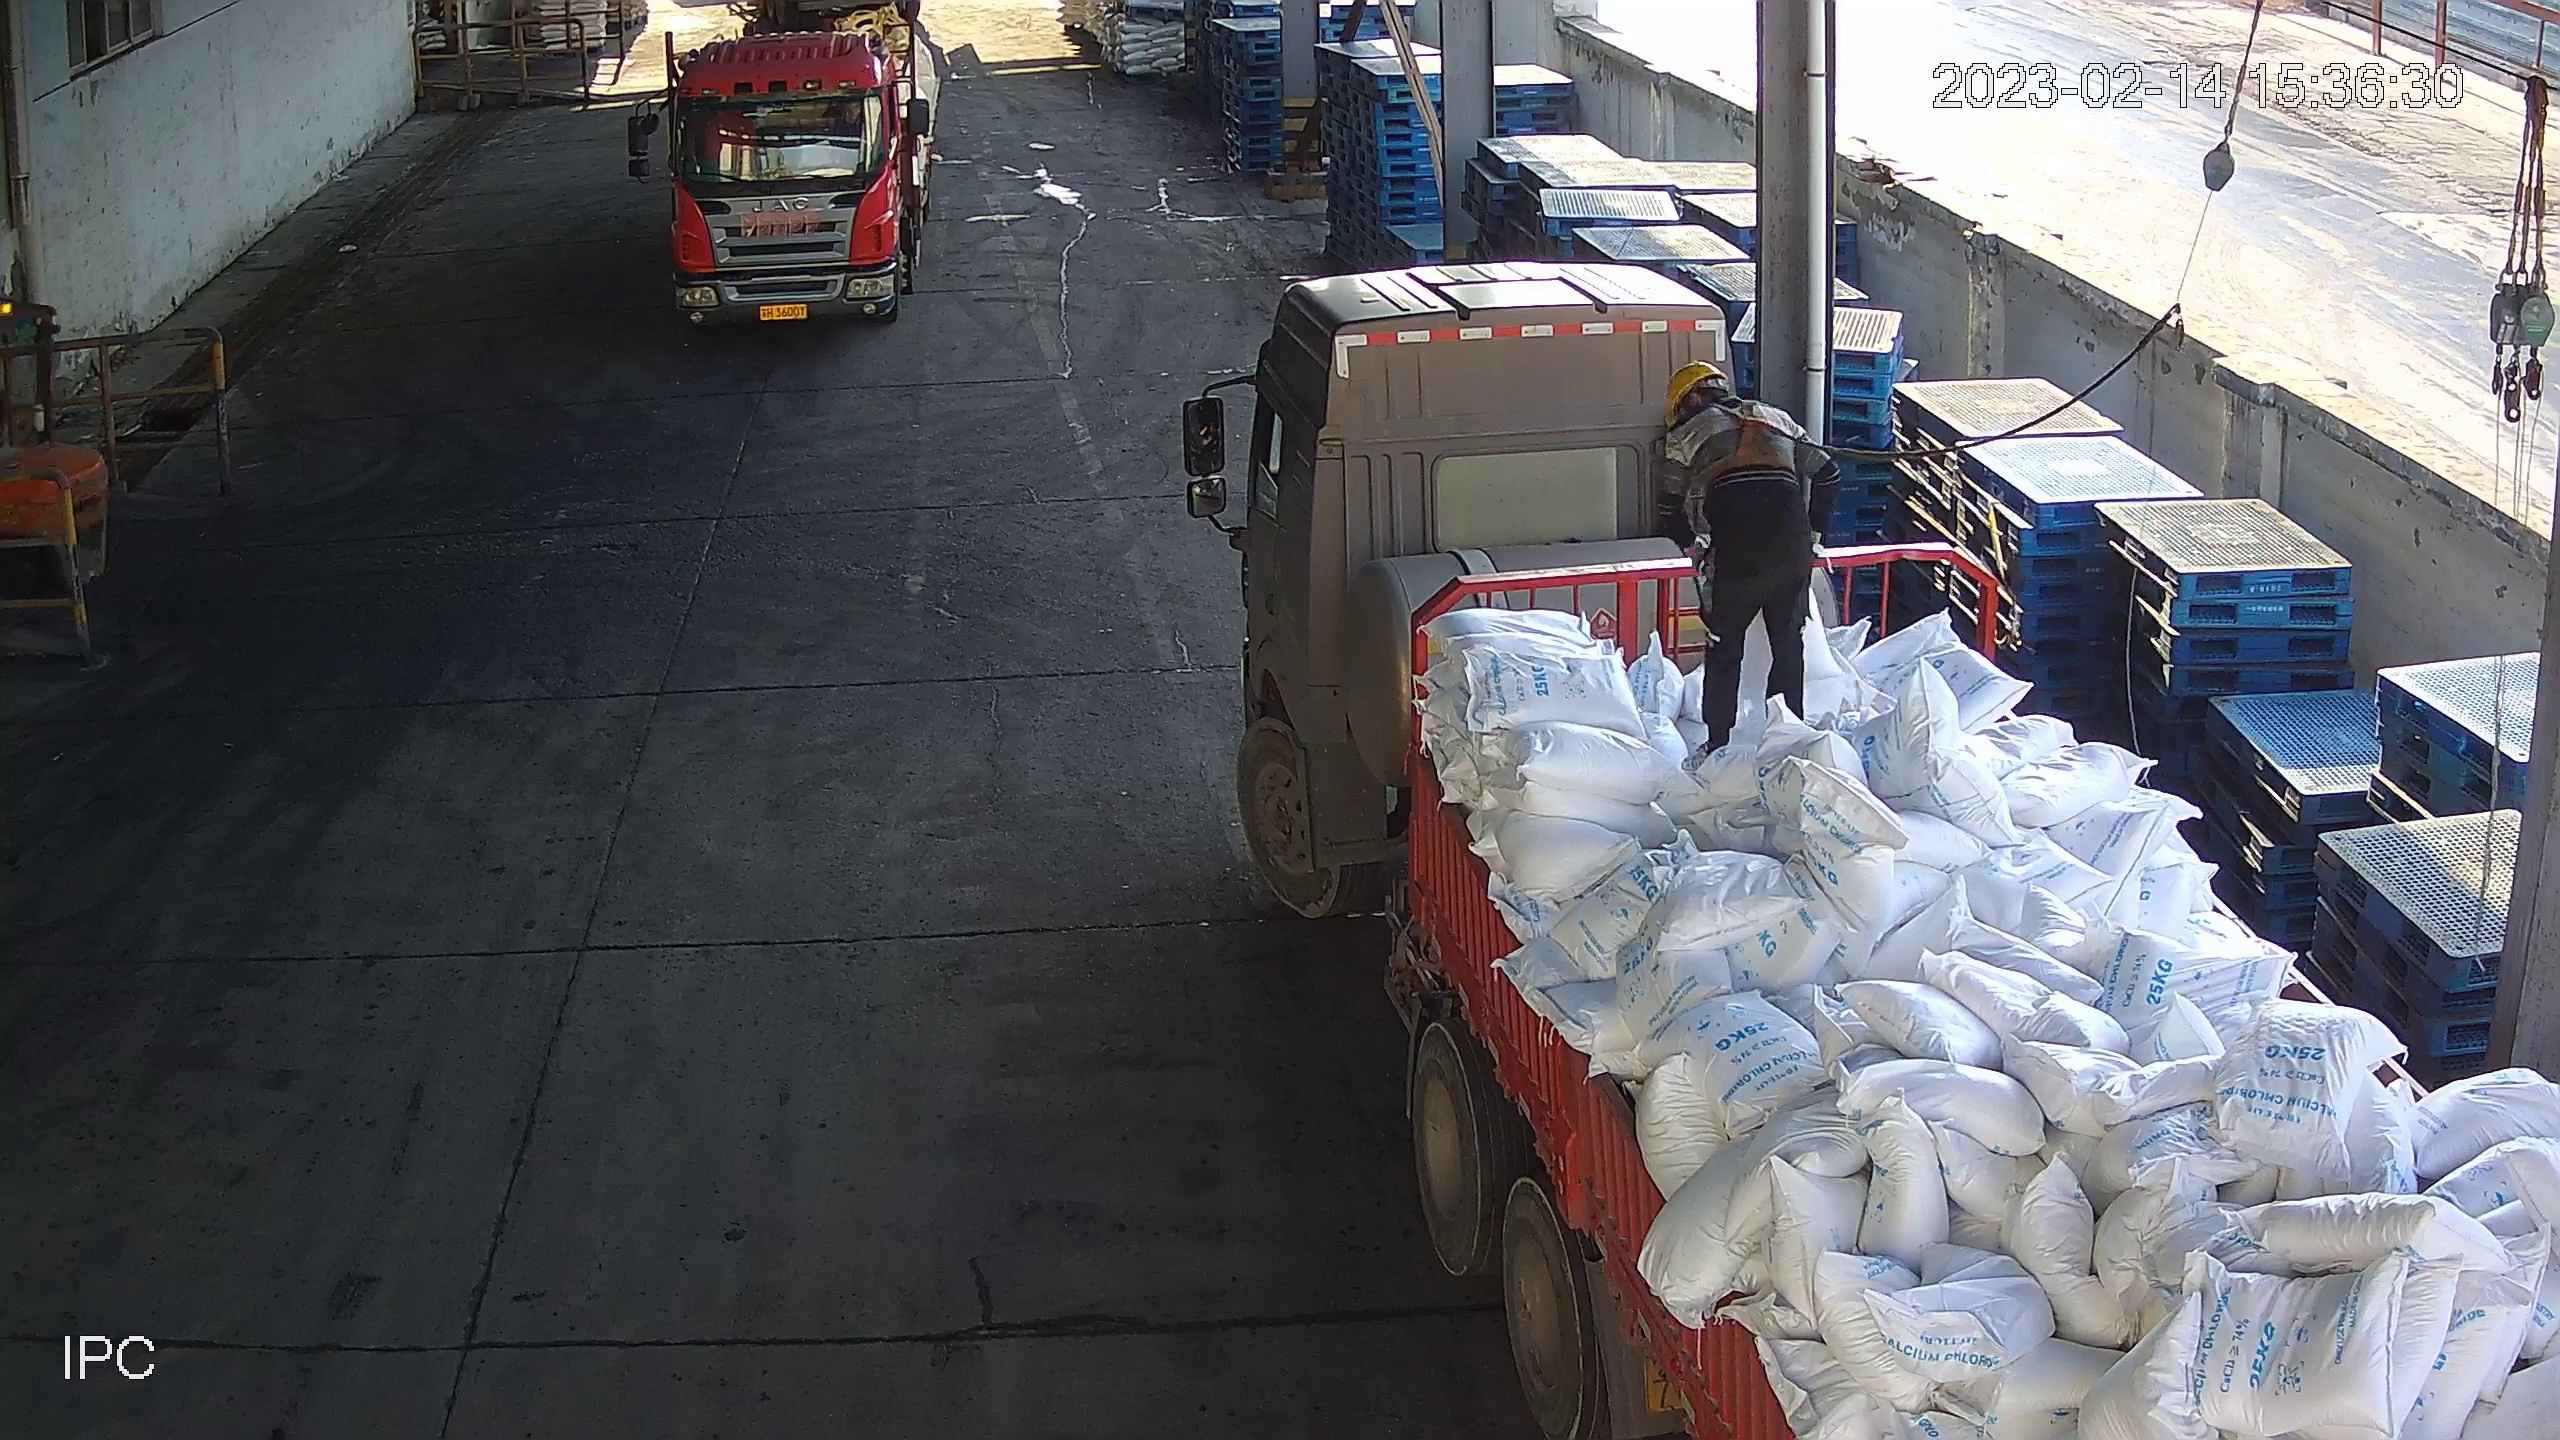belt: (1701, 401, 1807, 486)
head: (1664, 357, 1816, 464)
helmet: (1668, 349, 1733, 405)
people: (1655, 353, 1833, 758)
truck: (1173, 257, 2560, 1440), (620, 7, 935, 349)
